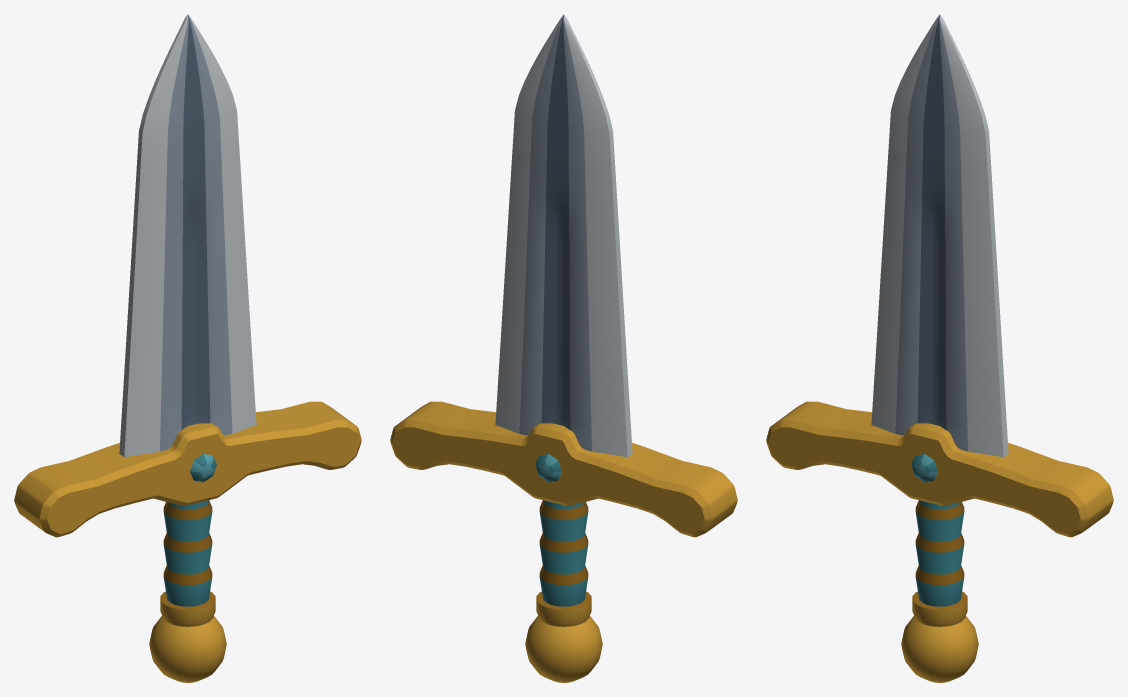
File: Broadsword_20.glb
3 views of the same model, side by side, from view 1: azimuth 30°, elevation 25°; view 2: azimuth 150°, elevation 25°; view 3: azimuth 330°, elevation 25° (orthographic).
Visible parts, largest first — view 1: Broadsword_20; view 2: Broadsword_20; view 3: Broadsword_20.
Boxes of the visible parts, x1,y1,x2,y2 form: Broadsword_20: (14,14,361,682); Broadsword_20: (390,14,737,682); Broadsword_20: (766,14,1113,682).
Bounding box in the file's own units: 2.99 × 5.9 × 0.624.
